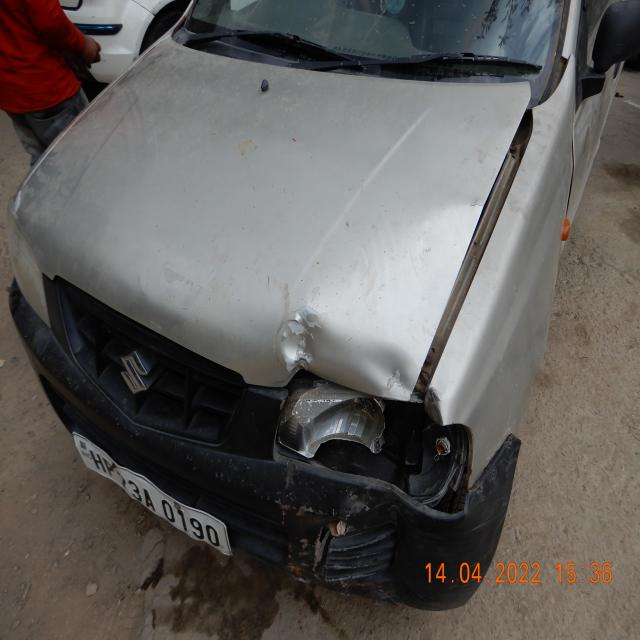damage: (278, 372, 472, 509), (385, 204, 493, 377), (296, 493, 374, 592), (486, 108, 536, 214), (281, 314, 321, 373)
